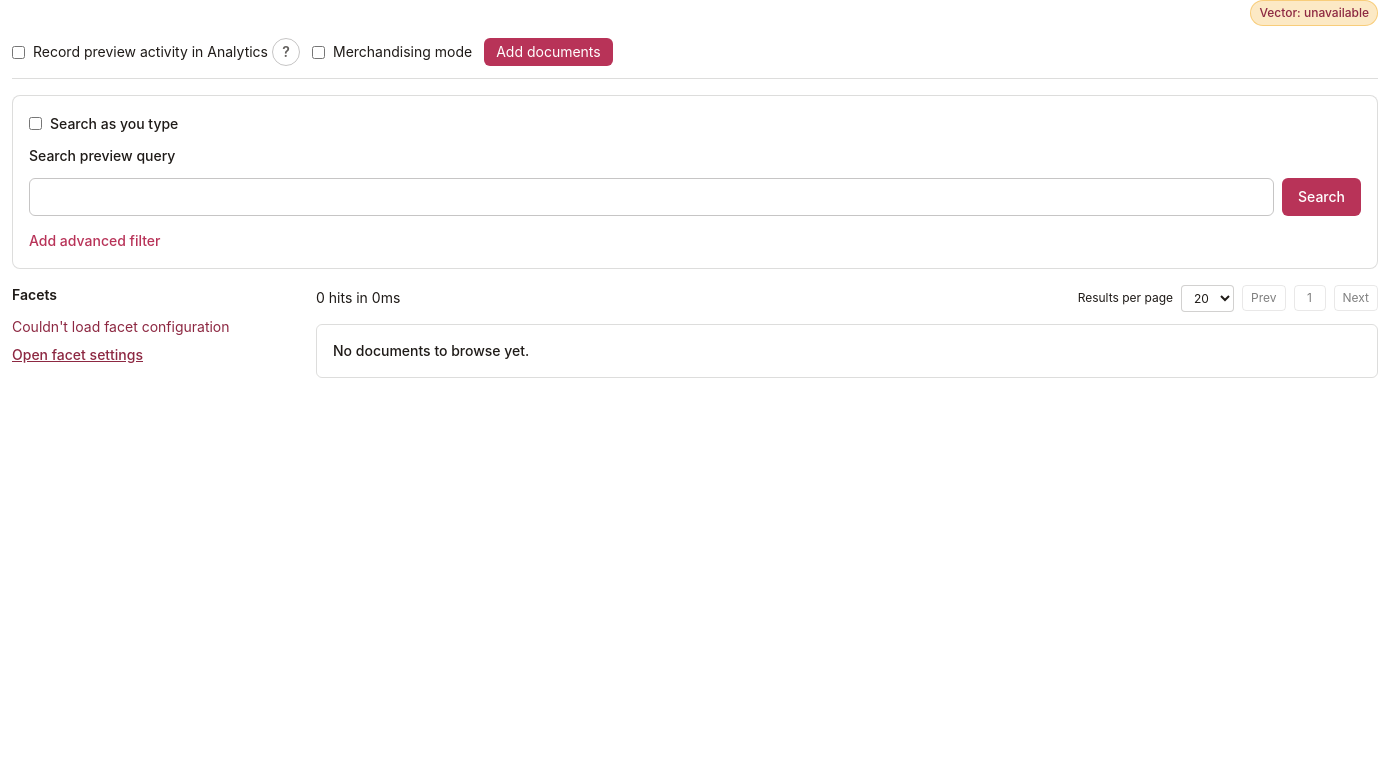
InstantSearch analytics › requires a new search after preview activity is enabled
Type "rust" into the search field labelled "Search preview query" at (652, 196), box left=29, top=178, right=1274, bottom=216
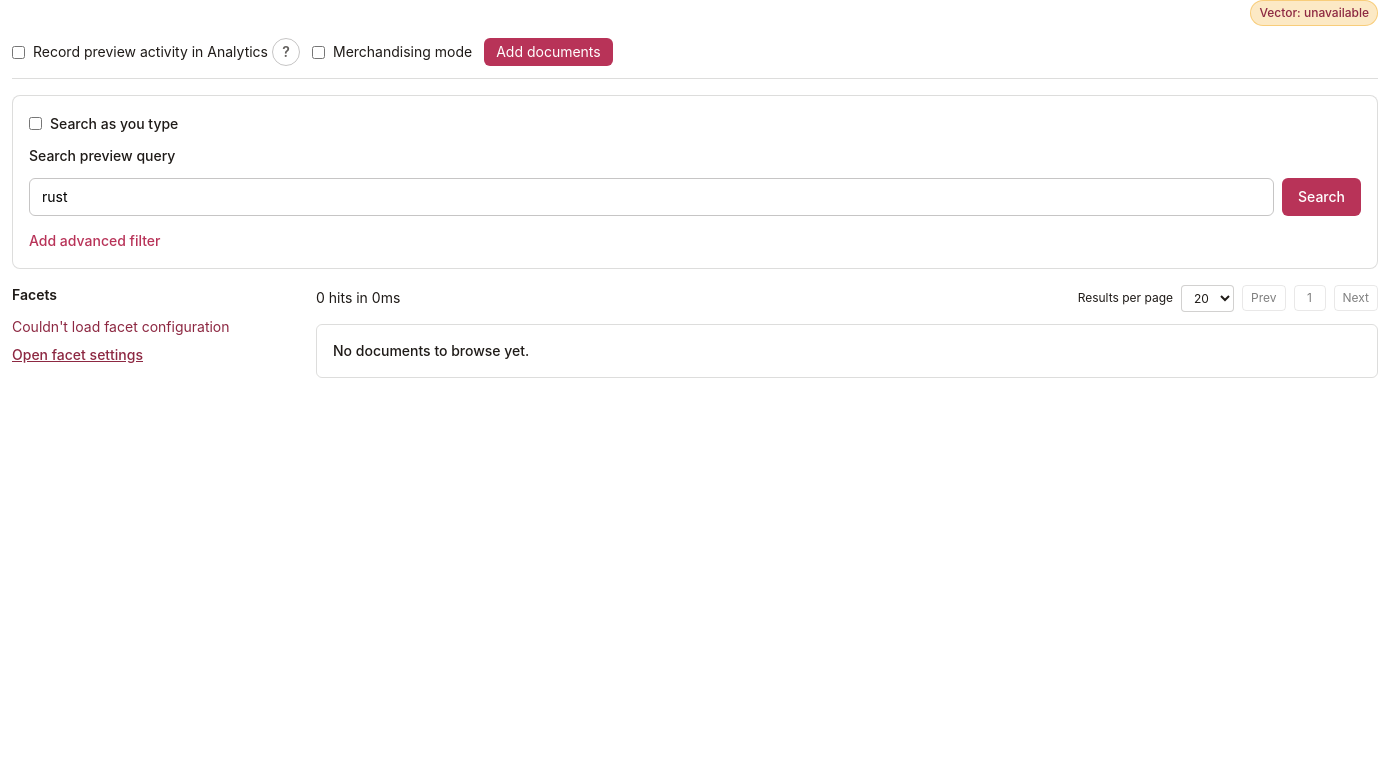
Press Enter in the search field labelled "Search preview query", box left=29, top=178, right=1274, bottom=216
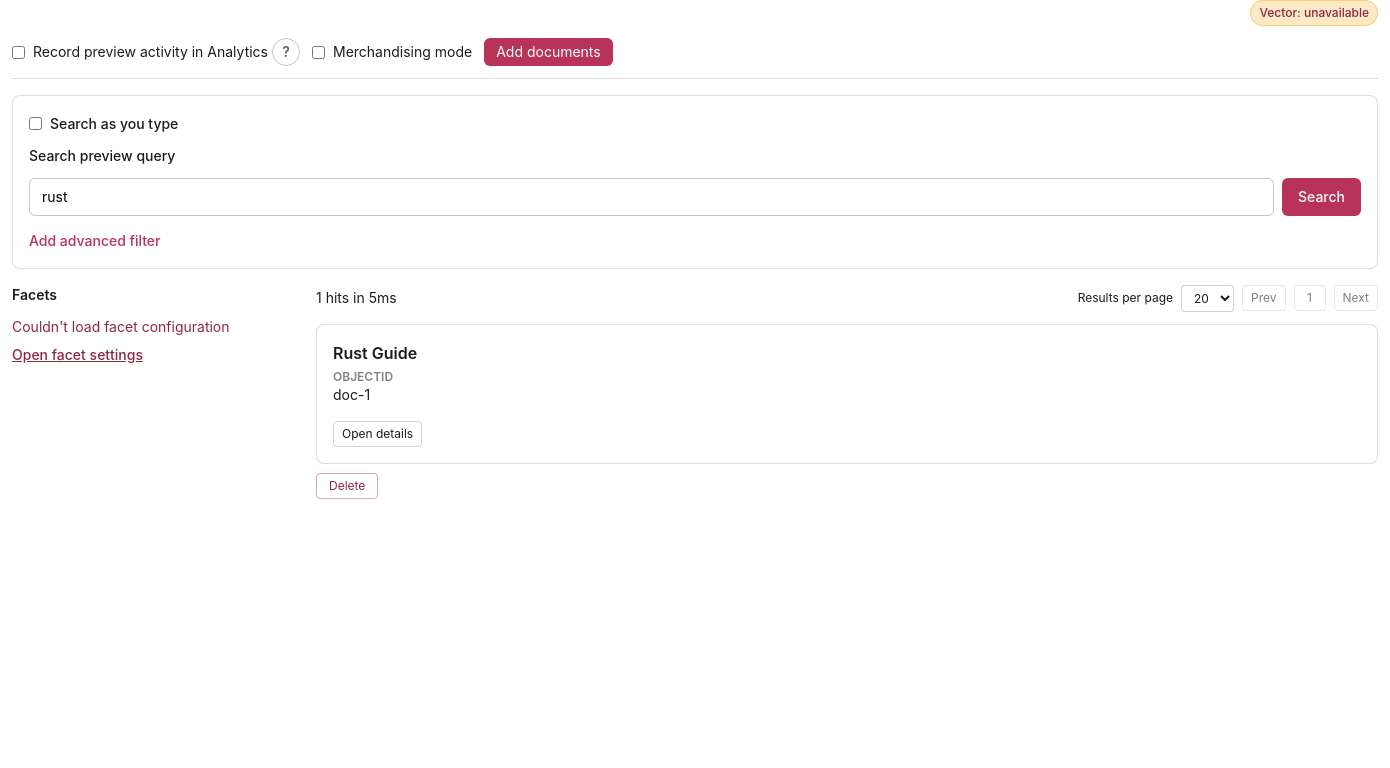
Result: the text "Rust Guide" is shown at left=333, top=342, right=417, bottom=362
Click the checkbox labelled "Record preview activity in Analytics" at (18, 52), box left=12, top=46, right=25, bottom=58
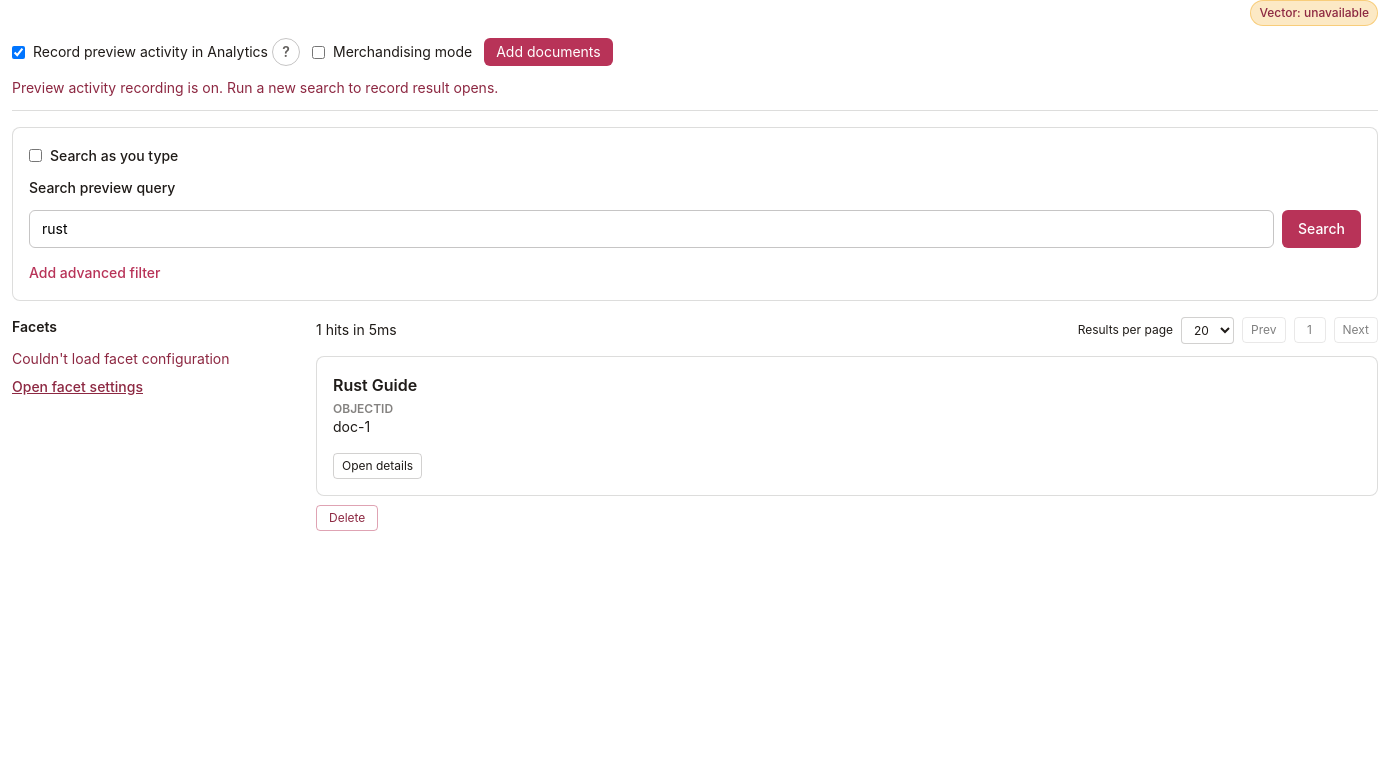
Click the button "Open details" at (378, 466), box left=333, top=452, right=422, bottom=478
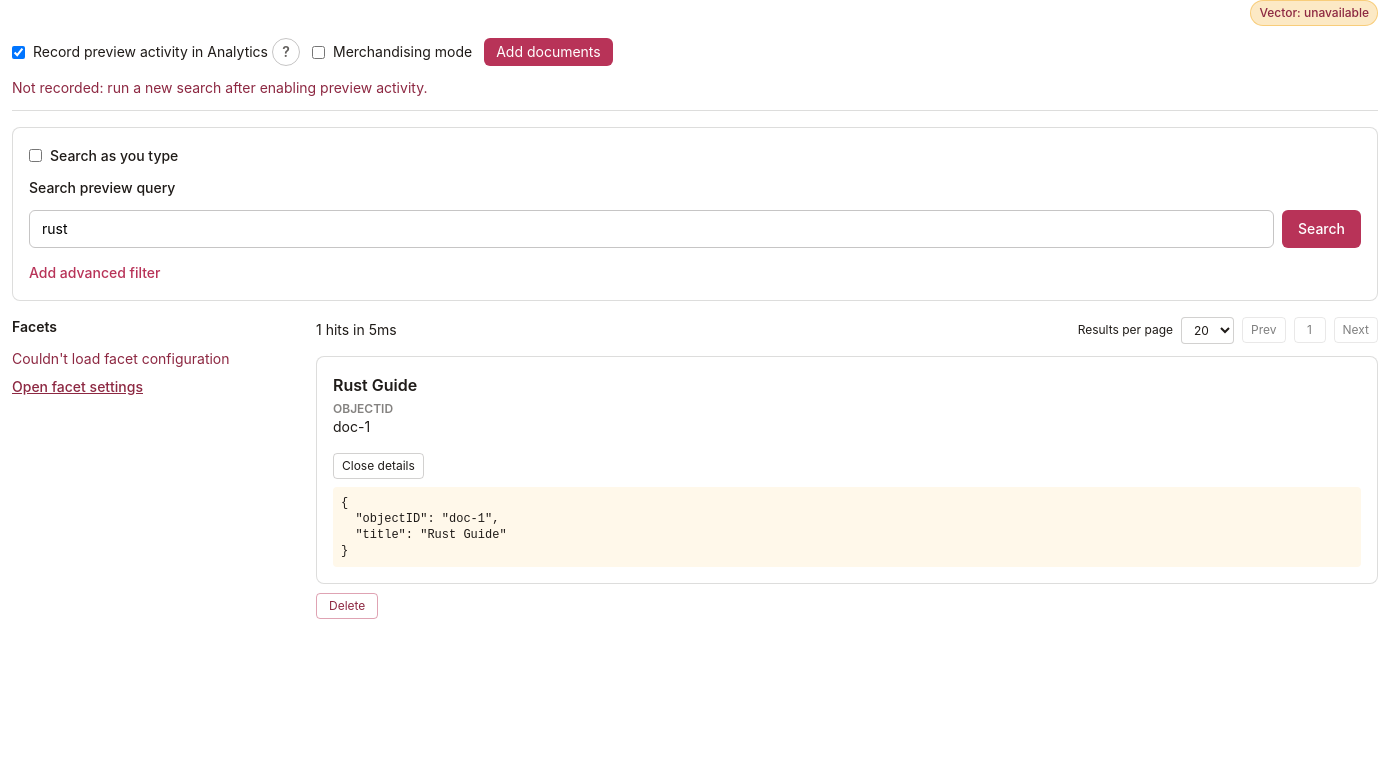
Result: the message reads "Not recorded: run a new search after enabling preview activity." at left=12, top=79, right=427, bottom=96
